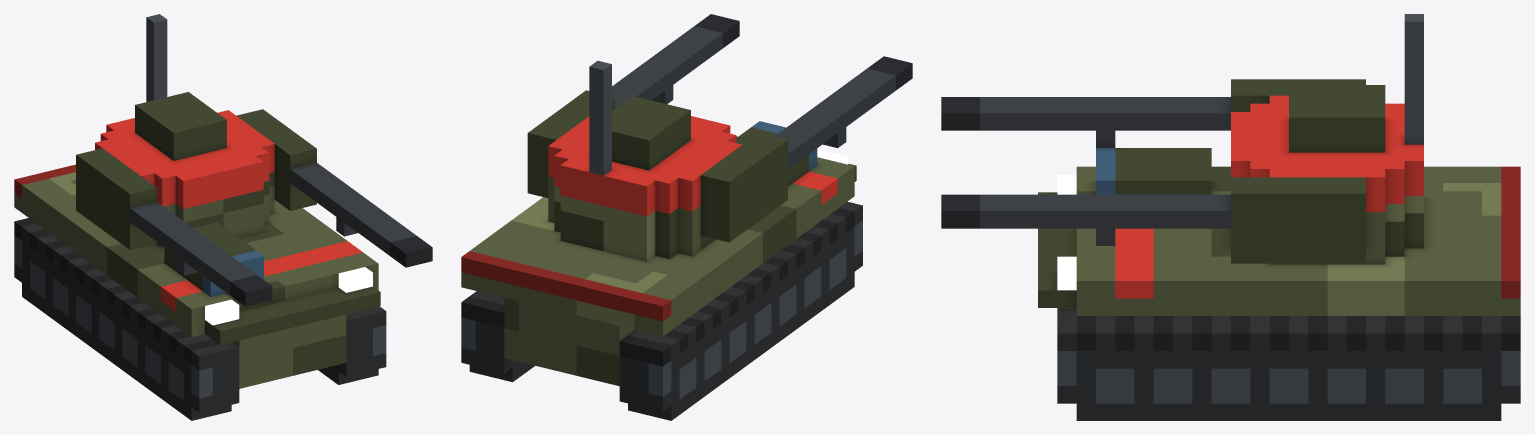
The picture shows the model from 3 angles, left to right: view 1: azimuth 30°, elevation 25°; view 2: azimuth 150°, elevation 25°; view 3: azimuth 270°, elevation 25°; orthographic projection. The views are drawn at different scales.
Parts seen in each view (by area): view 1: cm_aa_0_body; view 2: cm_aa_0_body; view 3: cm_aa_0_body.
Boxes of the visible parts, <box> form: cm_aa_0_body: <box>14,14,432,420</box>; cm_aa_0_body: <box>461,14,912,420</box>; cm_aa_0_body: <box>941,14,1520,420</box>.
Bounding box in the file's own units: 0.875 × 1.25 × 1.88.
Materials: 1 (1 with a texture image).
